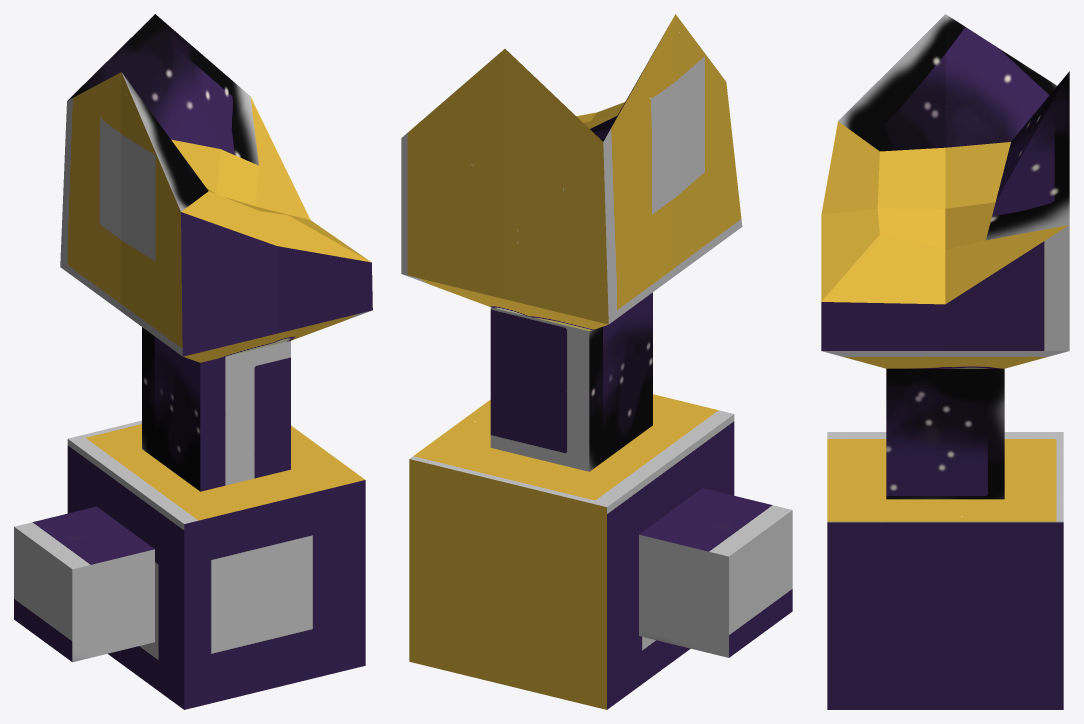
Rendered from brokennightlight.fbx.
3 renders of one model, left to right at view 1: azimuth 30°, elevation 25°; view 2: azimuth 150°, elevation 25°; view 3: azimuth 270°, elevation 25°, orthographic. The views are drawn at different scales.
Parts seen in each view (by area): view 1: Cube; view 2: Cube; view 3: Cube.
Part boxes in pixels (bbox=[...]): Cube: bbox=[14, 14, 372, 709]; Cube: bbox=[401, 14, 792, 709]; Cube: bbox=[821, 14, 1069, 709].
Bounding box in the file's own units: 279 × 592 × 220.
